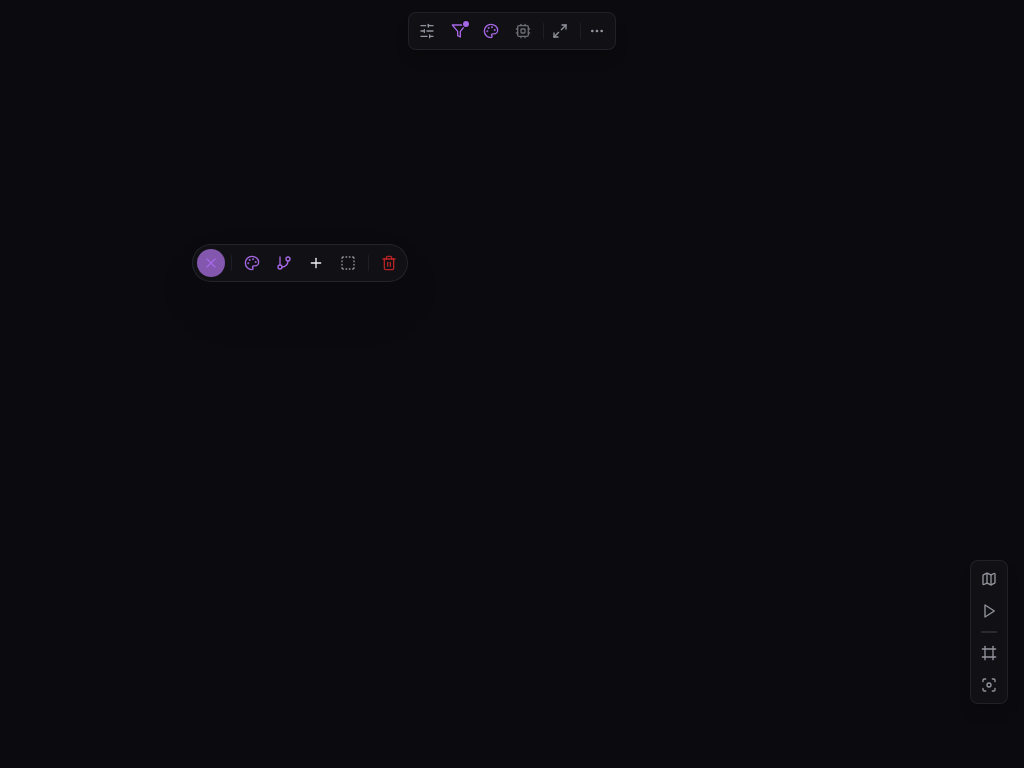
Test: XMIND-STEP-05 + FloatingDock: Unified Floating Dock, Label Modes & Context Style Menu › renders 6-button GraphFloatingDock (without Note AST or Smart Inspector), label modes, utility dock, and Context Menu Style & Format
Later steps or results of the test are not shown.
Expected: the element named "Graph Floating Dock" is shown, [408,12,616,50]
Click the button named "Mode & Layout" at (427, 31), box [413,17,441,45]
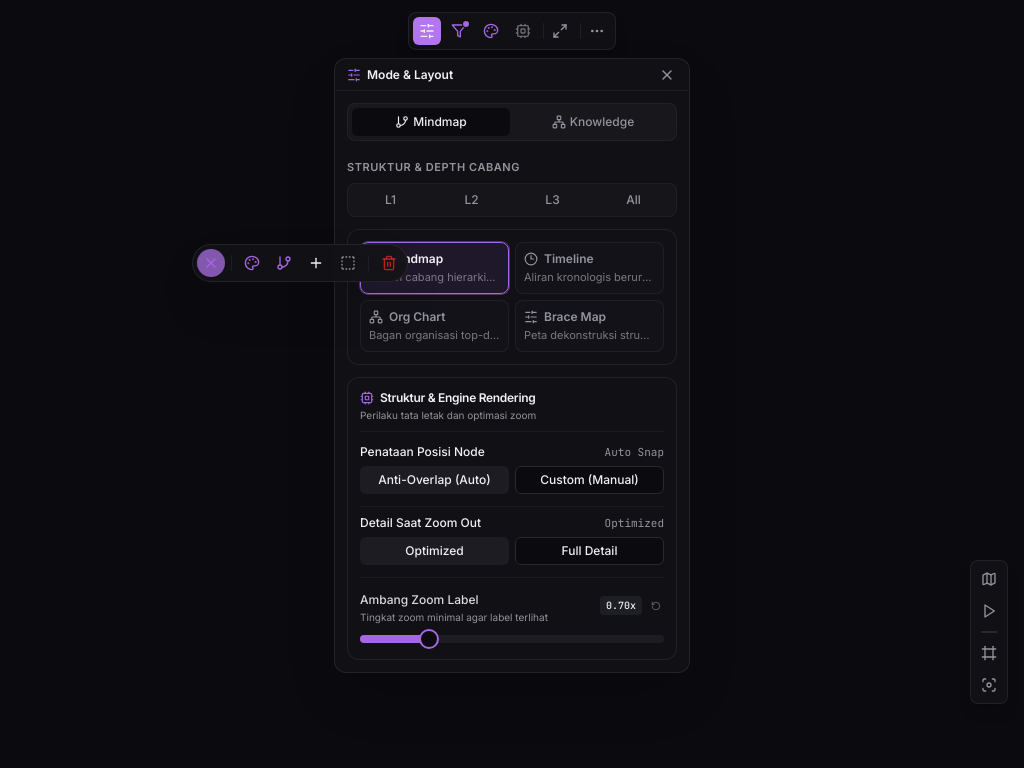
Expected: the element named "Graph Dock Cluster Panel" shows "Mindmap", [352,108,510,136]
Expected: the element named "Graph Dock Cluster Panel" shows "Knowledge", [514,108,672,136]
Expected: the element named "Graph Dock Cluster Panel" shows "Org Chart", [360,300,509,352]
